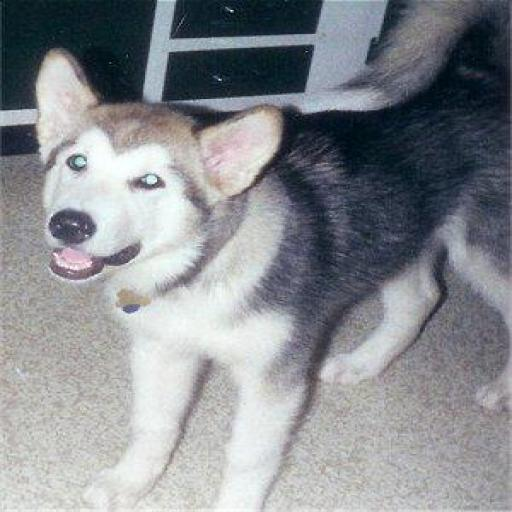dog_face: (23, 56, 272, 289)
